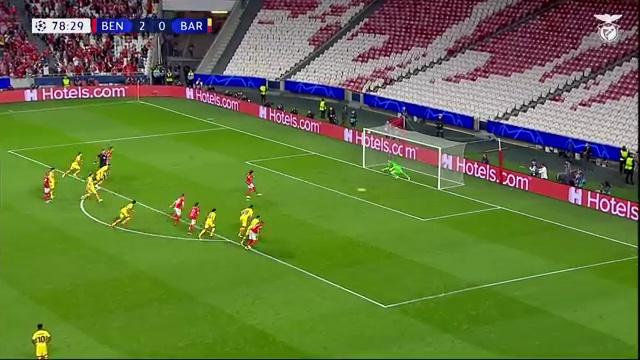football: (355, 184, 370, 197)
player: (110, 200, 135, 226), (32, 324, 50, 359), (240, 215, 260, 246), (81, 172, 102, 201), (198, 208, 216, 239), (245, 221, 264, 250), (382, 160, 410, 179), (62, 152, 81, 177), (238, 205, 253, 236), (170, 193, 184, 225), (246, 170, 260, 199), (188, 202, 199, 234), (95, 165, 108, 185), (43, 172, 51, 202), (48, 167, 55, 198), (105, 146, 112, 177)
referee: (94, 149, 107, 168)
